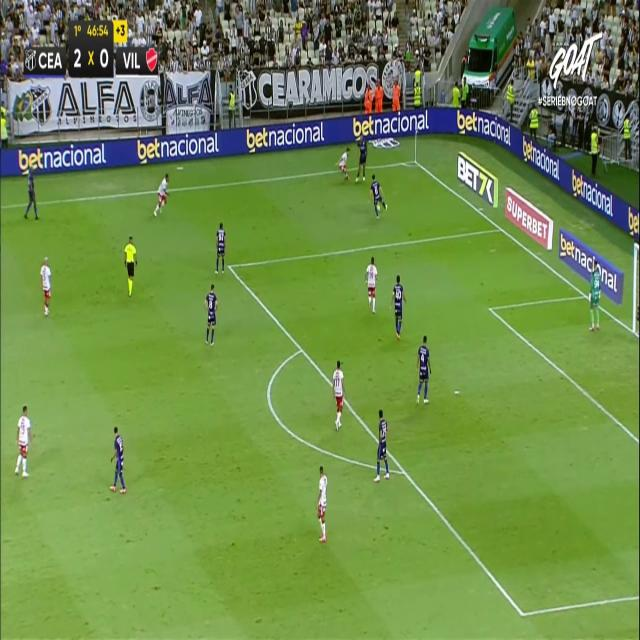goalkeeper: (588, 260, 602, 330)
player: (14, 405, 32, 478), (374, 408, 390, 481), (109, 426, 126, 492), (415, 334, 431, 404), (390, 274, 406, 340), (332, 359, 346, 431), (204, 283, 218, 346), (24, 165, 39, 220), (369, 173, 387, 218), (365, 255, 378, 314), (153, 172, 170, 217), (317, 465, 327, 541), (40, 256, 52, 316), (215, 221, 226, 274), (355, 135, 367, 182), (336, 146, 350, 180)
referee: (123, 235, 137, 297)
